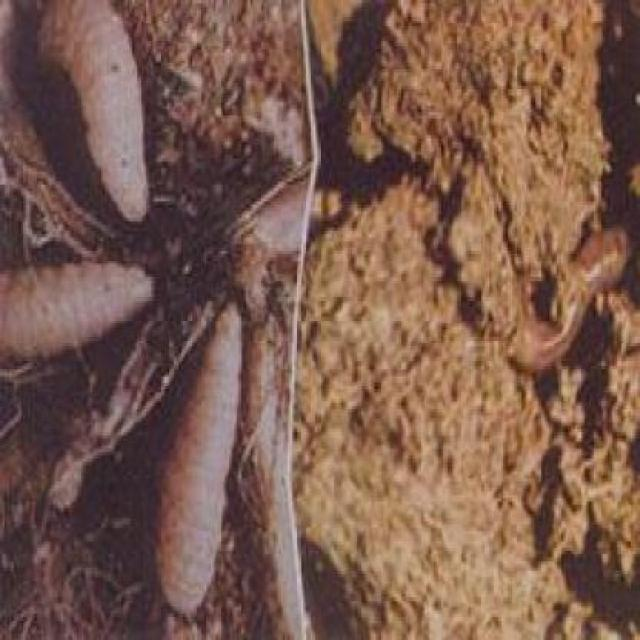whorl-maggot: (157, 304, 245, 620), (36, 0, 151, 224), (0, 261, 160, 358)
